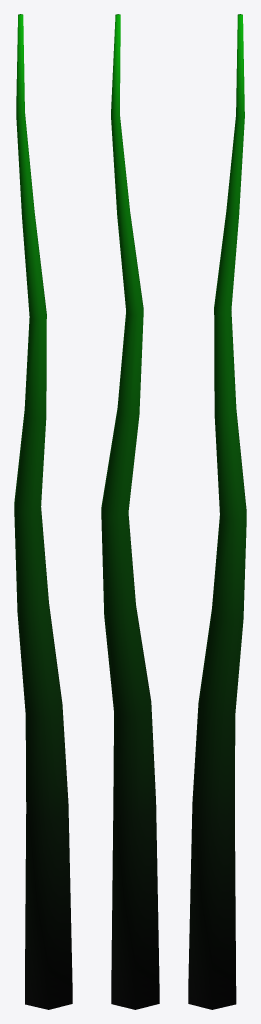
File: large_pine_trunk.obj
3 views of the same model, side by side, from view 1: azimuth 90°, elevation 25°; view 2: azimuth 150°, elevation 25°; view 3: azimuth 270°, elevation 25° (orthographic).
Parts seen in each view (by area): view 1: LargePineTrunk; view 2: LargePineTrunk; view 3: LargePineTrunk.
Part boxes in pixels (x1,y1,x2,y2): LargePineTrunk: (14, 14, 72, 1009); LargePineTrunk: (101, 14, 159, 1009); LargePineTrunk: (188, 14, 246, 1009).
Bounding box in the file's own units: 1.16 × 22.73 × 1.23.
